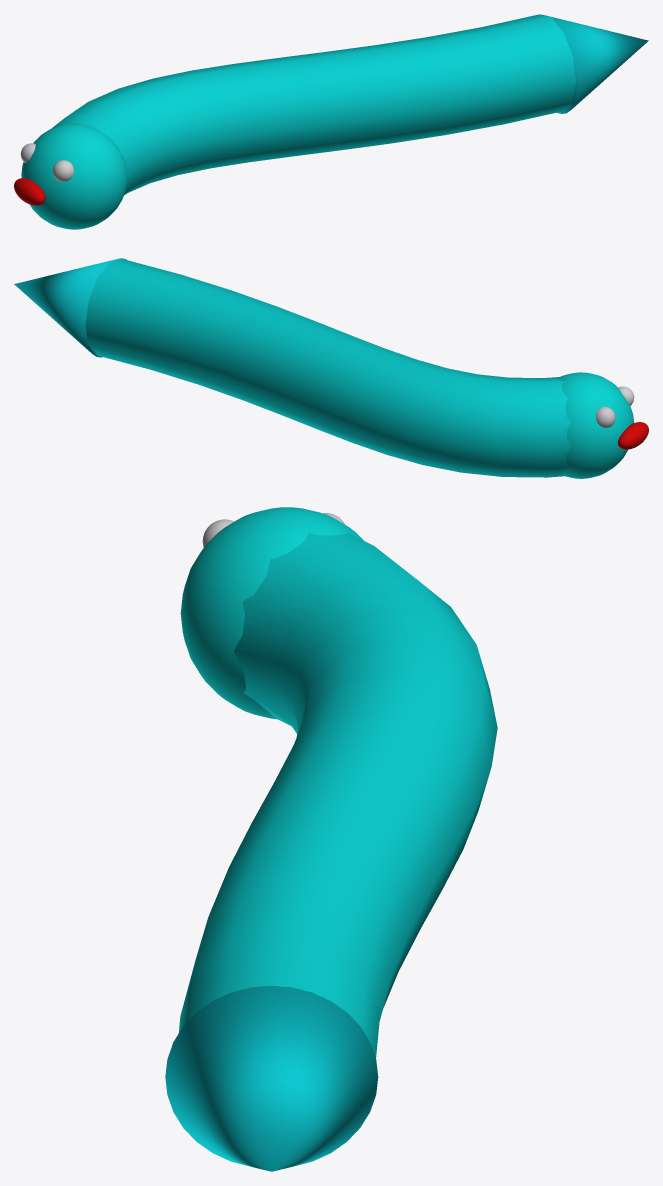
The model's file is SnakeCyan.obj.
The picture shows the model from 3 angles, top to bottom: view 1: azimuth 30°, elevation 25°; view 2: azimuth 150°, elevation 25°; view 3: azimuth 270°, elevation 25°; orthographic projection. The views are drawn at different scales.
Parts seen in each view (by area): view 1: BézierCurve, Sphere, Cone, Sphere.003, Sphere.001; view 2: BézierCurve, Sphere, Cone, Sphere.003, Sphere.002; view 3: BézierCurve, Cone, Sphere.
Part boxes in pixels (box(x1,y1,x2,y2)): BézierCurve: box(52, 14, 575, 195); Sphere: box(21, 123, 127, 229); Cone: box(541, 14, 648, 113); Sphere.003: box(14, 178, 45, 205); Sphere.001: box(52, 160, 73, 181); BézierCurve: box(85, 259, 570, 477); Sphere: box(558, 372, 633, 478); Cone: box(14, 258, 126, 357); Sphere.003: box(618, 422, 648, 449); Sphere.002: box(596, 406, 615, 427); BézierCurve: box(179, 532, 497, 1057); Cone: box(165, 985, 378, 1171); Sphere: box(180, 507, 363, 719).
Size of the model in its own units: 2.62 by 0.384 by 0.5994.
